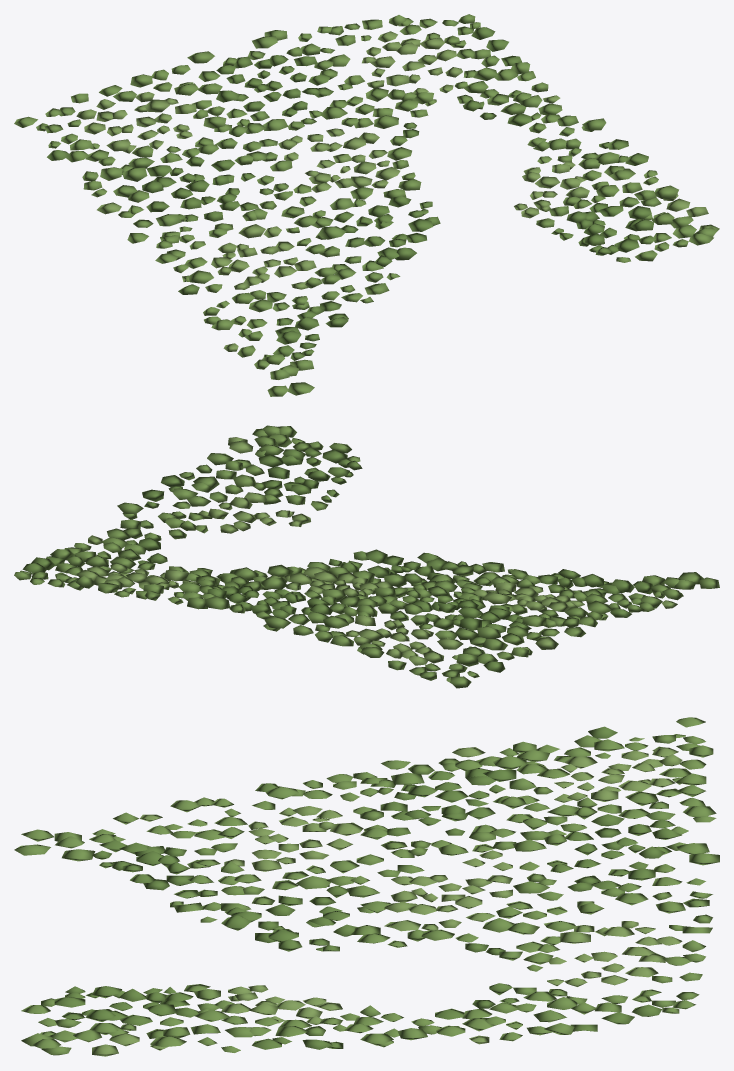
Rendered from canopy-1--3--3.glb.
The picture shows the model from 3 angles, top to bottom: view 1: azimuth 30°, elevation 25°; view 2: azimuth 150°, elevation 25°; view 3: azimuth 270°, elevation 25°; orthographic projection. The views are drawn at different scales.
Size of the model in its own units: 522 by 122 by 520.
1 material, 1 textured.
